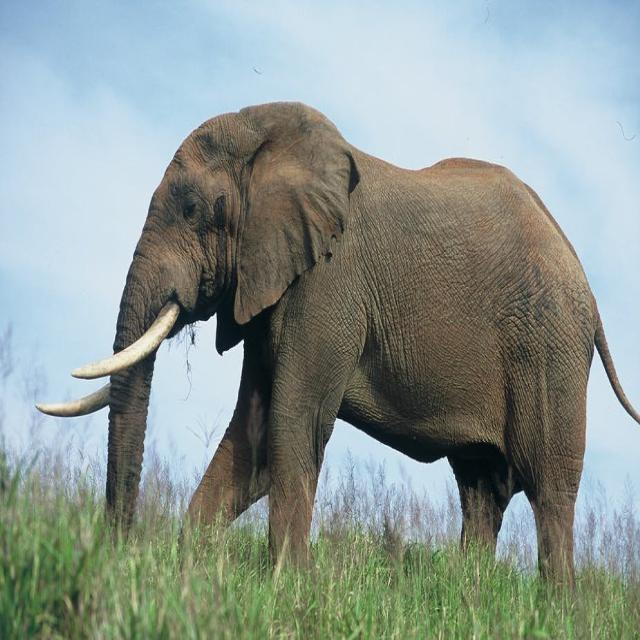Elephant: (34, 99, 638, 600)
